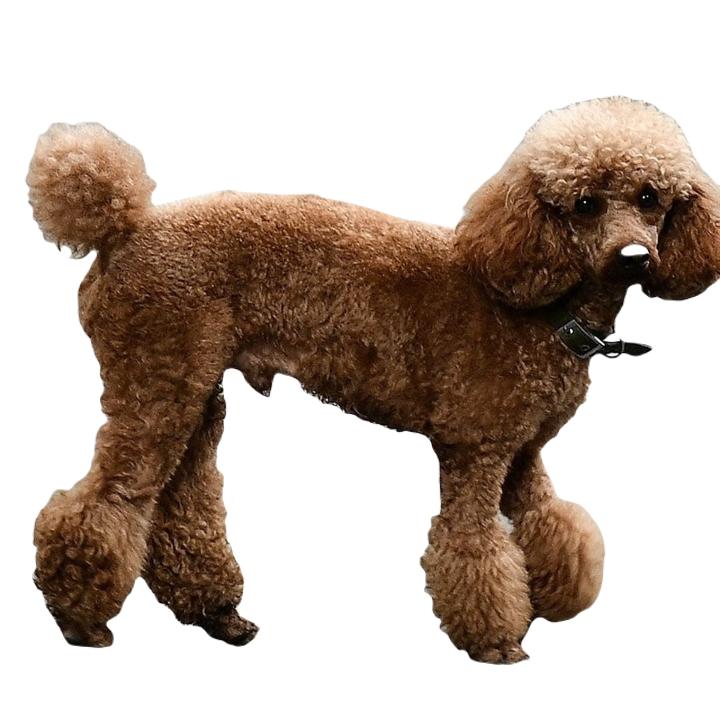Dog: (26, 91, 719, 663)
